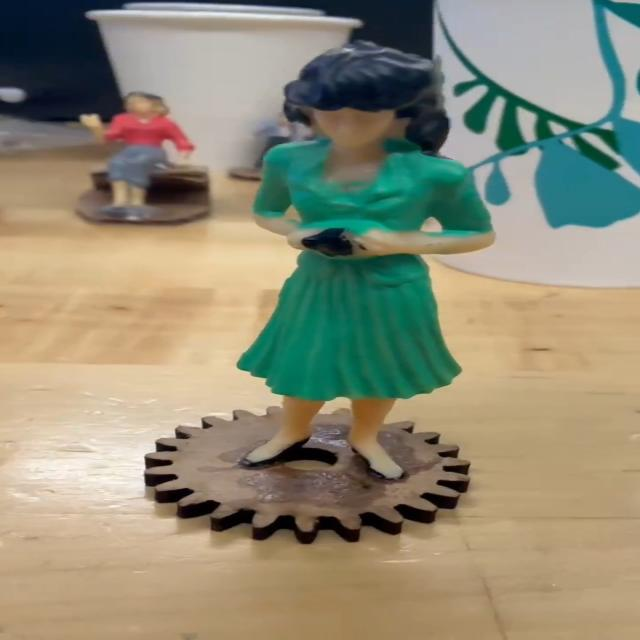Authorized: (199, 33, 482, 524)
